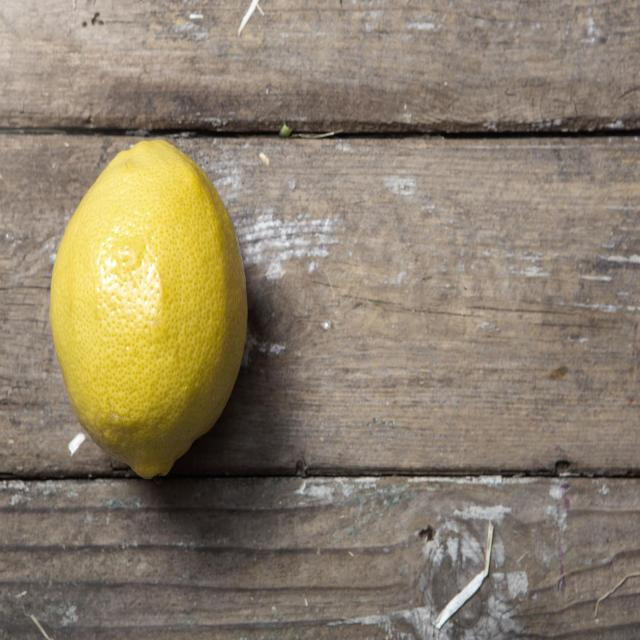lemon: (45, 134, 248, 482)
